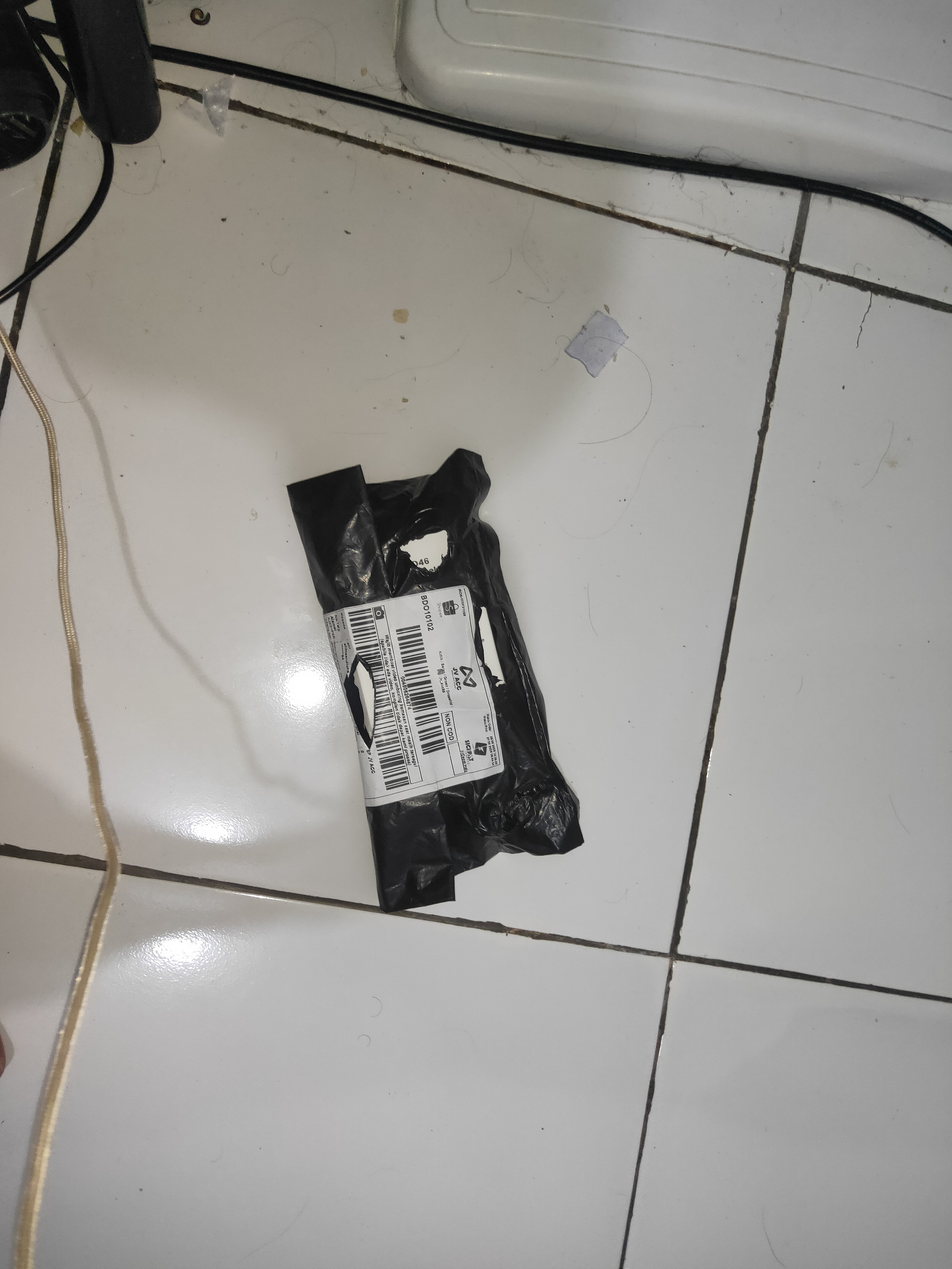damaged package: (396, 513, 455, 575), (342, 653, 378, 753), (473, 605, 510, 689)
undamaged: (280, 438, 591, 917)
